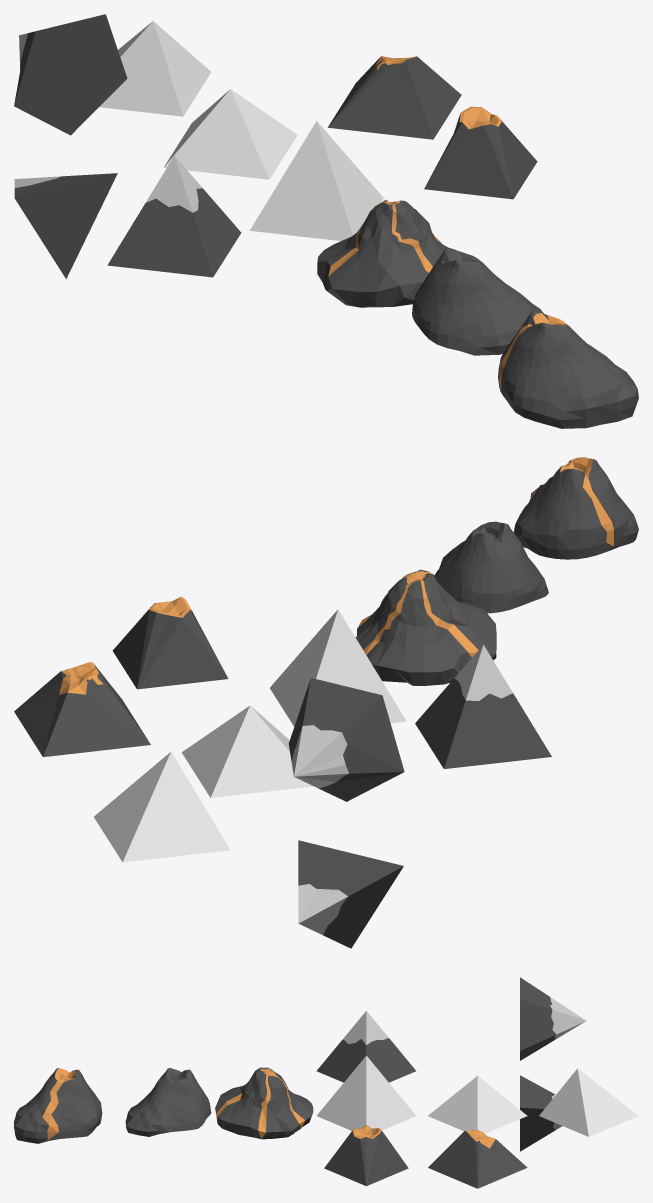
The model's file is Distant Volcanos.fbx.
3 views of the same model, one above another, from view 1: azimuth 30°, elevation 25°; view 2: azimuth 150°, elevation 25°; view 3: azimuth 270°, elevation 25° (orthographic). The views are drawn at different scales.
Visible parts, largest first — view 1: Volcano 2 Lava, Snowy Mountain 2, Volcano 1, Snowy Mountain 1, Volcano 2, Distant Mountain 1, Distant Volcano 2, Distant Mountain 2, Distant Volcano, Distant Mountain 3, Snowy Mountain 3; view 2: Volcano 1, Snowy Mountain 2, Snowy Mountain 1, Volcano 2 Lava, Distant Mountain 3, Distant Volcano 2, Snowy Mountain 3, Distant Mountain 2, Volcano 2, Distant Volcano, Distant Mountain 1; view 3: Volcano 1, Volcano 2 Lava, Distant Mountain 1, Volcano 2, Distant Mountain 3, Distant Volcano 2, Snowy Mountain 1, Distant Volcano, Distant Mountain 2, Snowy Mountain 2, Snowy Mountain 3.
Part boxes in pixels (left/top/right/bottom): Volcano 2 Lava: left=498, top=310, right=638, bottom=428; Snowy Mountain 2: left=14, top=14, right=127, bottom=135; Volcano 1: left=317, top=199, right=447, bottom=307; Snowy Mountain 1: left=107, top=156, right=241, bottom=277; Volcano 2: left=412, top=247, right=543, bottom=355; Distant Mountain 1: left=250, top=121, right=383, bottom=240; Distant Volcano 2: left=328, top=56, right=461, bottom=139; Distant Mountain 2: left=164, top=89, right=297, bottom=179; Distant Volcano: left=424, top=106, right=537, bottom=199; Distant Mountain 3: left=99, top=21, right=211, bottom=116; Snowy Mountain 3: left=14, top=173, right=117, bottom=278; Volcano 1: left=355, top=569, right=496, bottom=685; Snowy Mountain 2: left=288, top=678, right=404, bottom=801; Snowy Mountain 1: left=415, top=645, right=551, bottom=768; Volcano 2 Lava: left=513, top=457, right=638, bottom=559; Distant Mountain 3: left=94, top=751, right=230, bottom=862; Distant Volcano 2: left=14, top=662, right=150, bottom=757; Snowy Mountain 3: left=298, top=840, right=403, bottom=948; Distant Mountain 2: left=182, top=705, right=313, bottom=797; Volcano 2: left=434, top=521, right=548, bottom=613; Distant Volcano: left=112, top=596, right=228, bottom=689; Distant Mountain 1: left=270, top=609, right=406, bottom=726; Volcano 1: left=215, top=1067, right=313, bottom=1139; Volcano 2 Lava: left=14, top=1068, right=102, bottom=1143; Distant Mountain 1: left=316, top=1055, right=415, bottom=1130; Volcano 2: left=125, top=1068, right=211, bottom=1136; Distant Mountain 3: left=539, top=1068, right=638, bottom=1136; Distant Volcano 2: left=428, top=1130, right=527, bottom=1188; Snowy Mountain 1: left=316, top=1011, right=415, bottom=1082; Distant Volcano: left=324, top=1125, right=408, bottom=1186; Distant Mountain 2: left=428, top=1075, right=527, bottom=1133; Snowy Mountain 2: left=520, top=977, right=586, bottom=1060; Snowy Mountain 3: left=520, top=1075, right=562, bottom=1151.
Size of the model in its own units: 147700 by 81880 by 280892.
